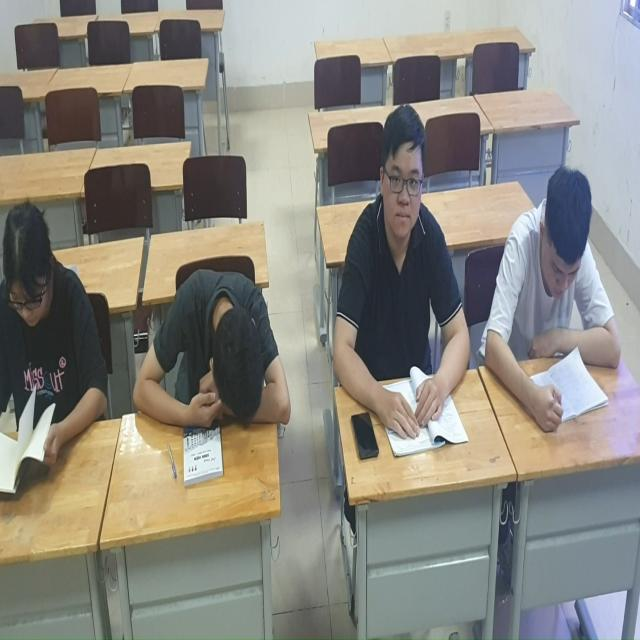read: (333, 100, 478, 466), (482, 166, 623, 442), (1, 197, 110, 504)
sleep: (135, 268, 292, 467)
